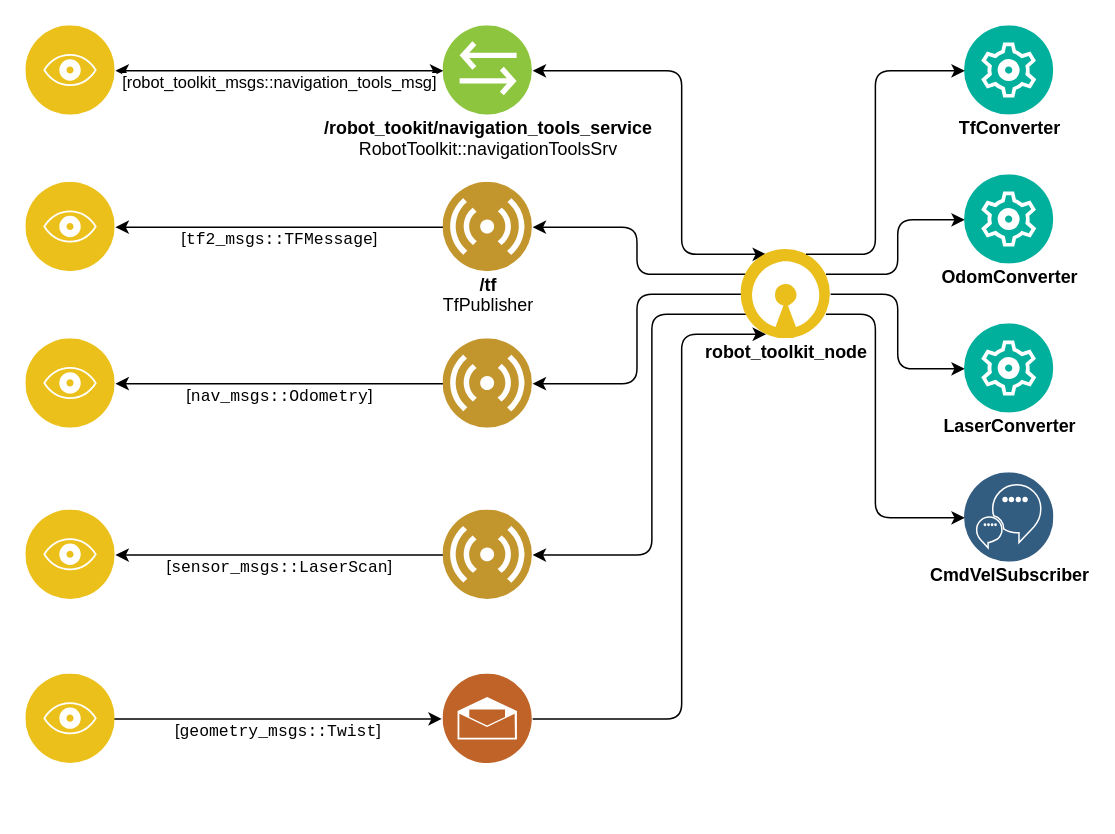
This 1115x834 diagram has some shape labels left out. The box of each missing label's shape, as (x1, y1, x2, y2) in pixels:
/cmd_vel CmdVelSubscriber: (443, 673, 532, 763)
/laser LaserPublisher: (443, 510, 532, 599)
/odom OdomPublisher: (443, 338, 532, 428)
